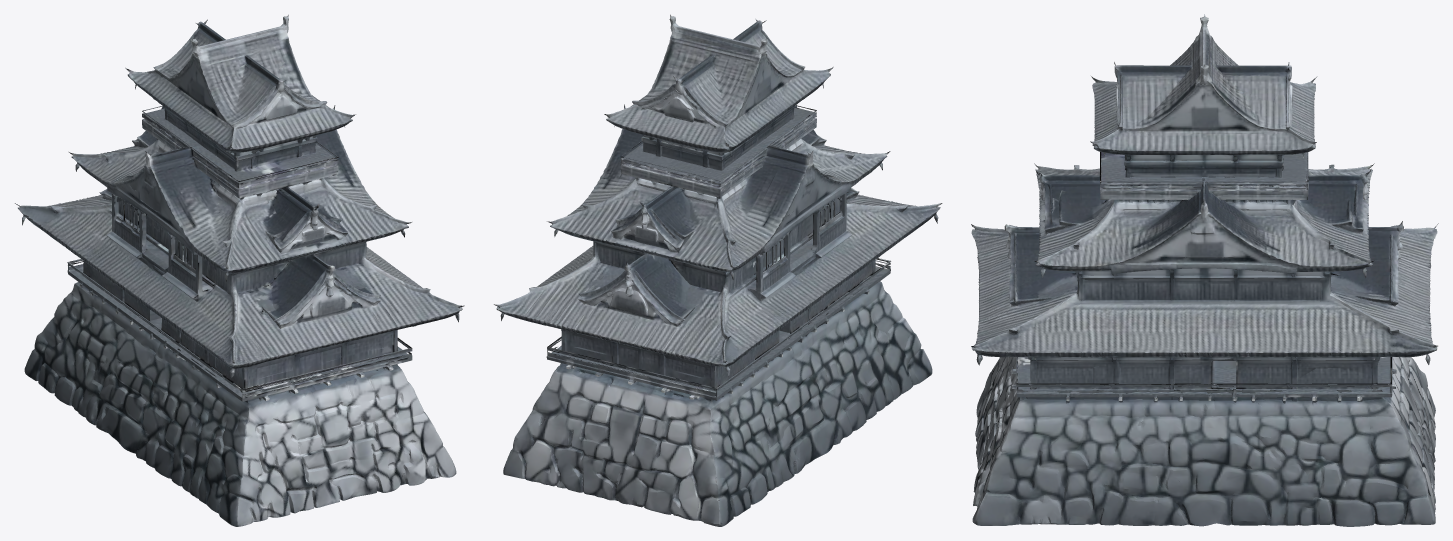
Rendered from rook.glb.
3 views of the same model, side by side, from view 1: azimuth 30°, elevation 25°; view 2: azimuth 150°, elevation 25°; view 3: azimuth 270°, elevation 25° (orthographic). The views are drawn at different scales.
Visible parts, largest first — view 1: model; view 2: model; view 3: model.
Part boxes in pixels (<box>): model: <box>15,14,464,526</box>; model: <box>494,14,942,526</box>; model: <box>971,14,1438,526</box>.
Bounding box in the file's own units: 1.15 × 1.86 × 1.84.
Materials: 1 (1 with a texture image).
